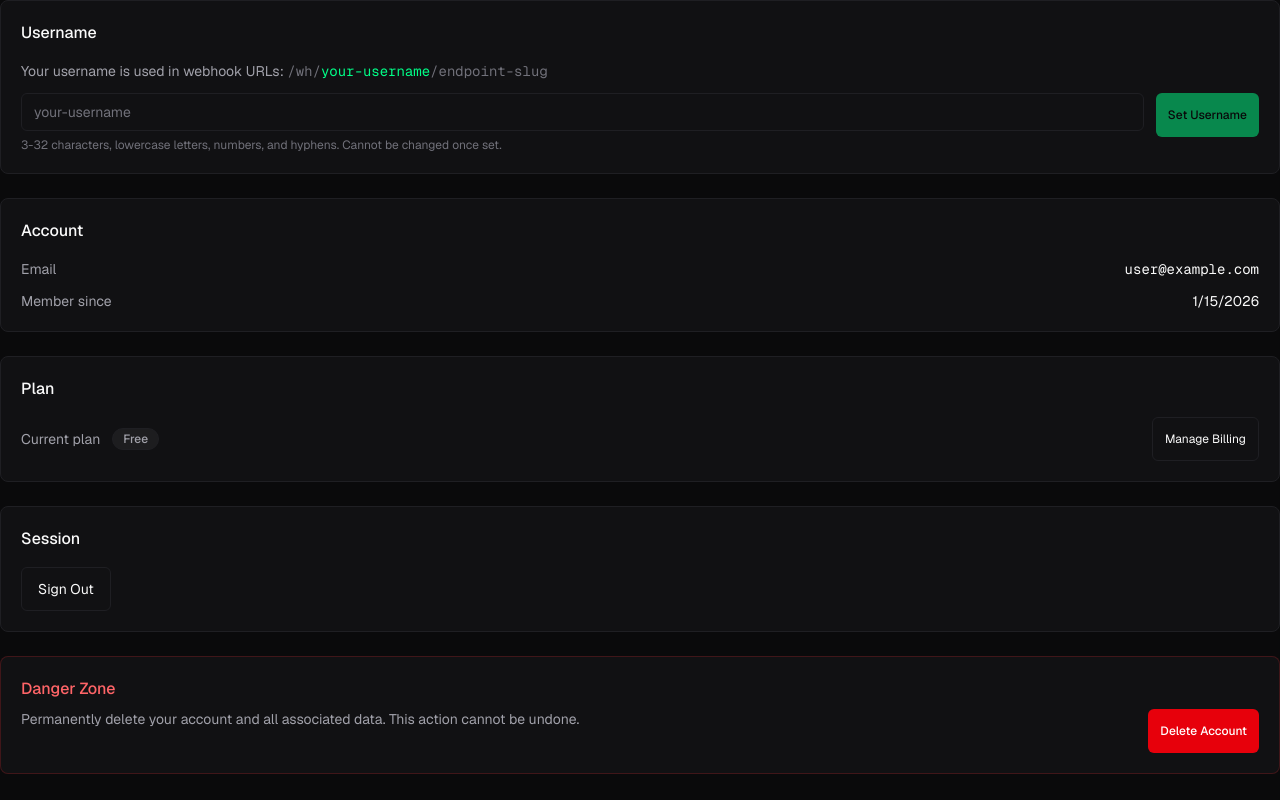
it: SettingsClient › account deletion › keeps confirm button disabled until phrase is typed exactly
Click the button "Delete Account". click: x=1204, y=731
box: [1148, 709, 1259, 753]
(page scrolled)
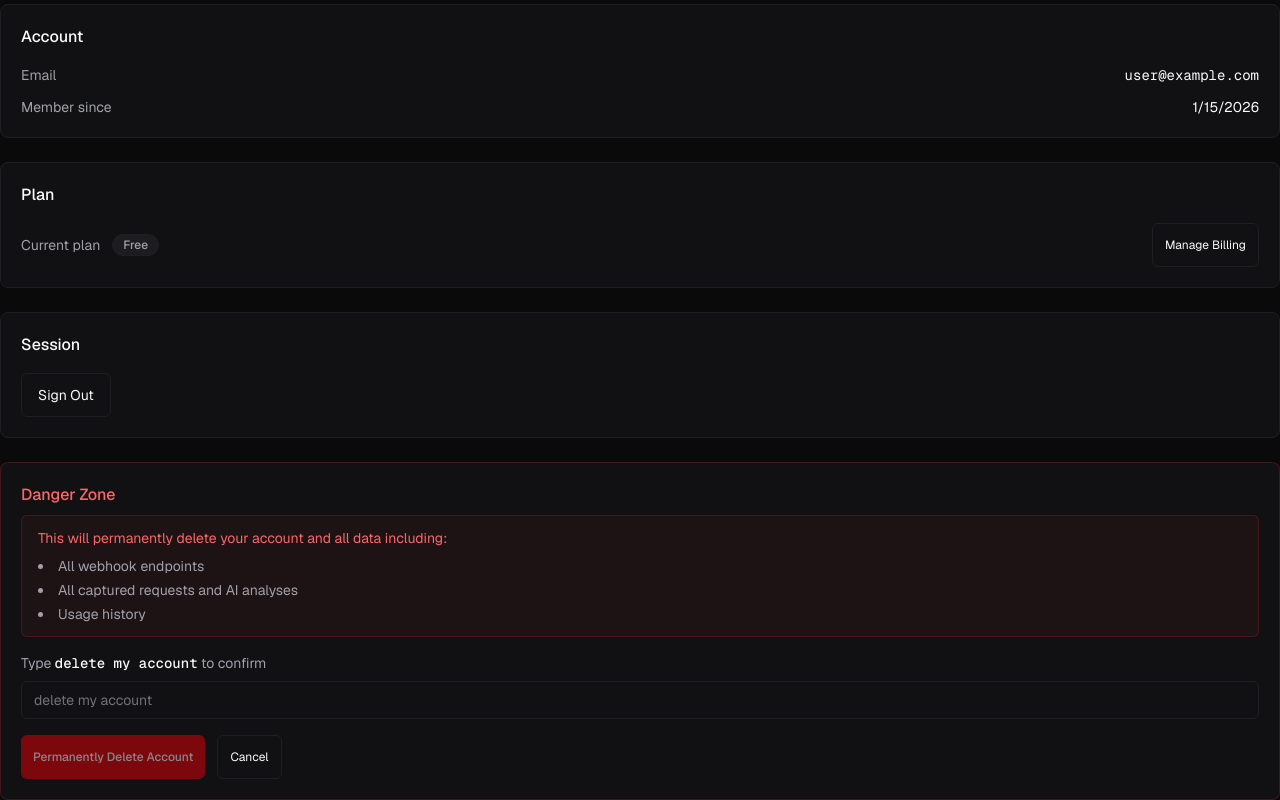
Expected: the button "Permanently Delete Account" is disabled, [21, 735, 205, 779]
Type "delete my accoun" into the field with placeholder "delete my account". click: x=640, y=700
box: [21, 681, 1259, 719]
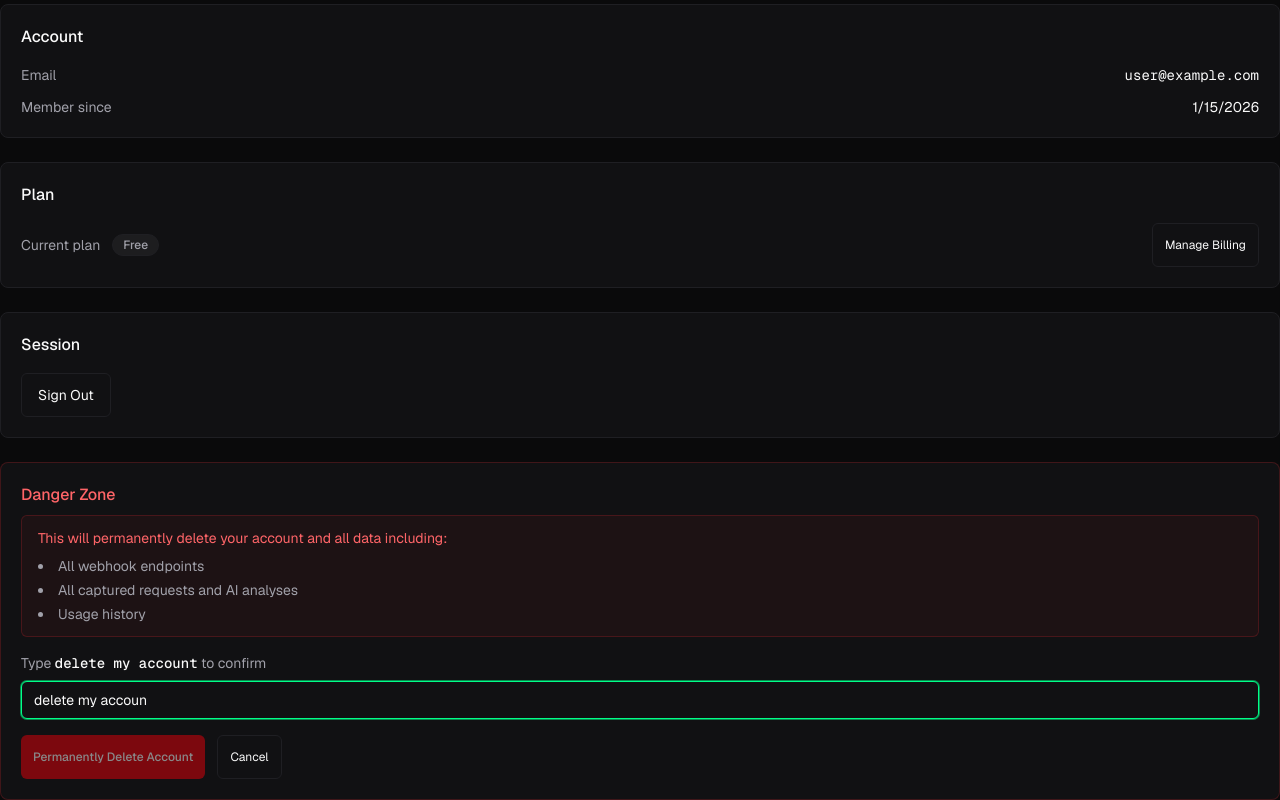
Expected: the button "Permanently Delete Account" is disabled, [21, 735, 205, 779]
Type "t" into the field with placeholder "delete my account". click: x=640, y=700
box: [21, 681, 1259, 719]
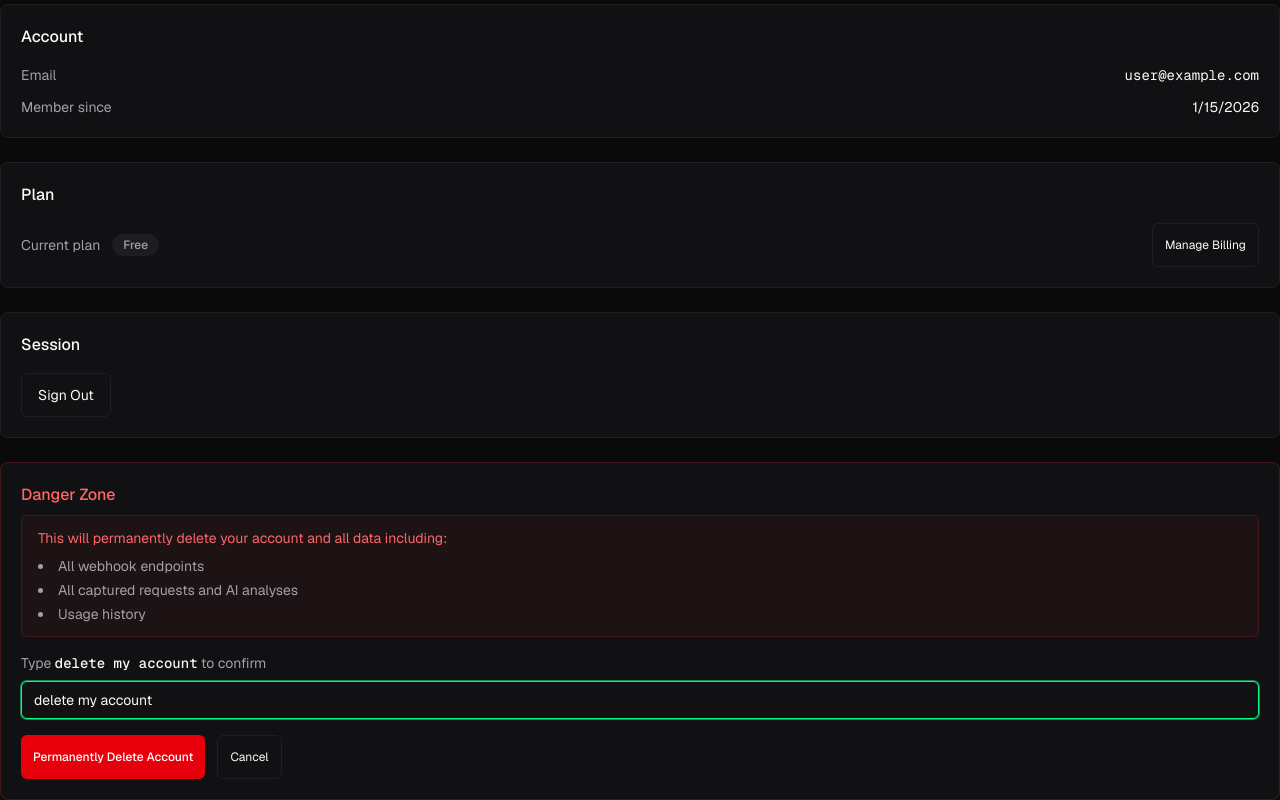
Expected: the button "Permanently Delete Account" is enabled, [21, 735, 205, 779]
